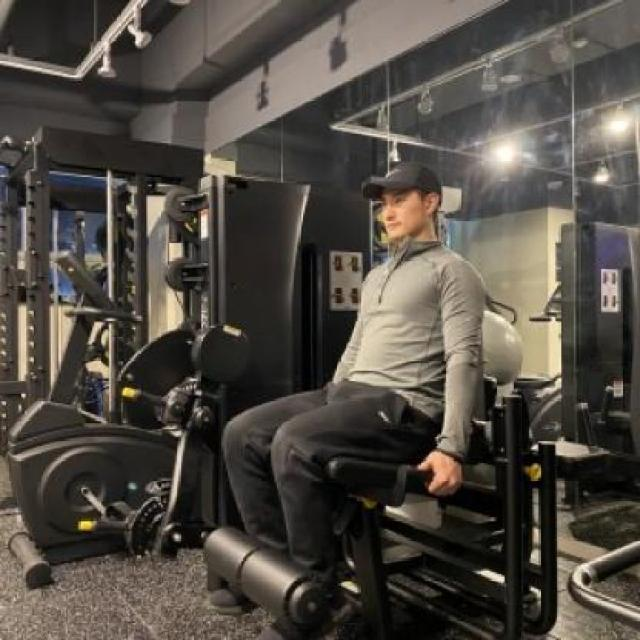leg extension: (160, 157, 566, 640)
